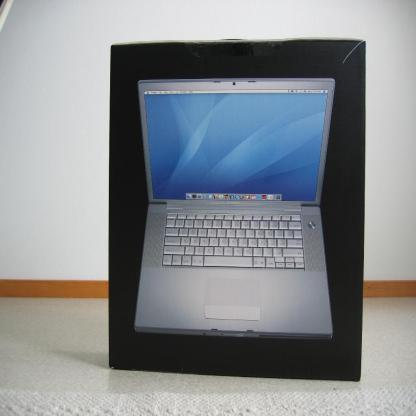board: (133, 79, 336, 339)
